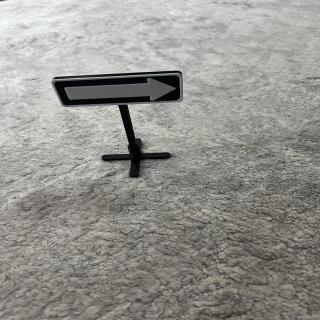sign_oneway_right: (52, 70, 186, 109)
